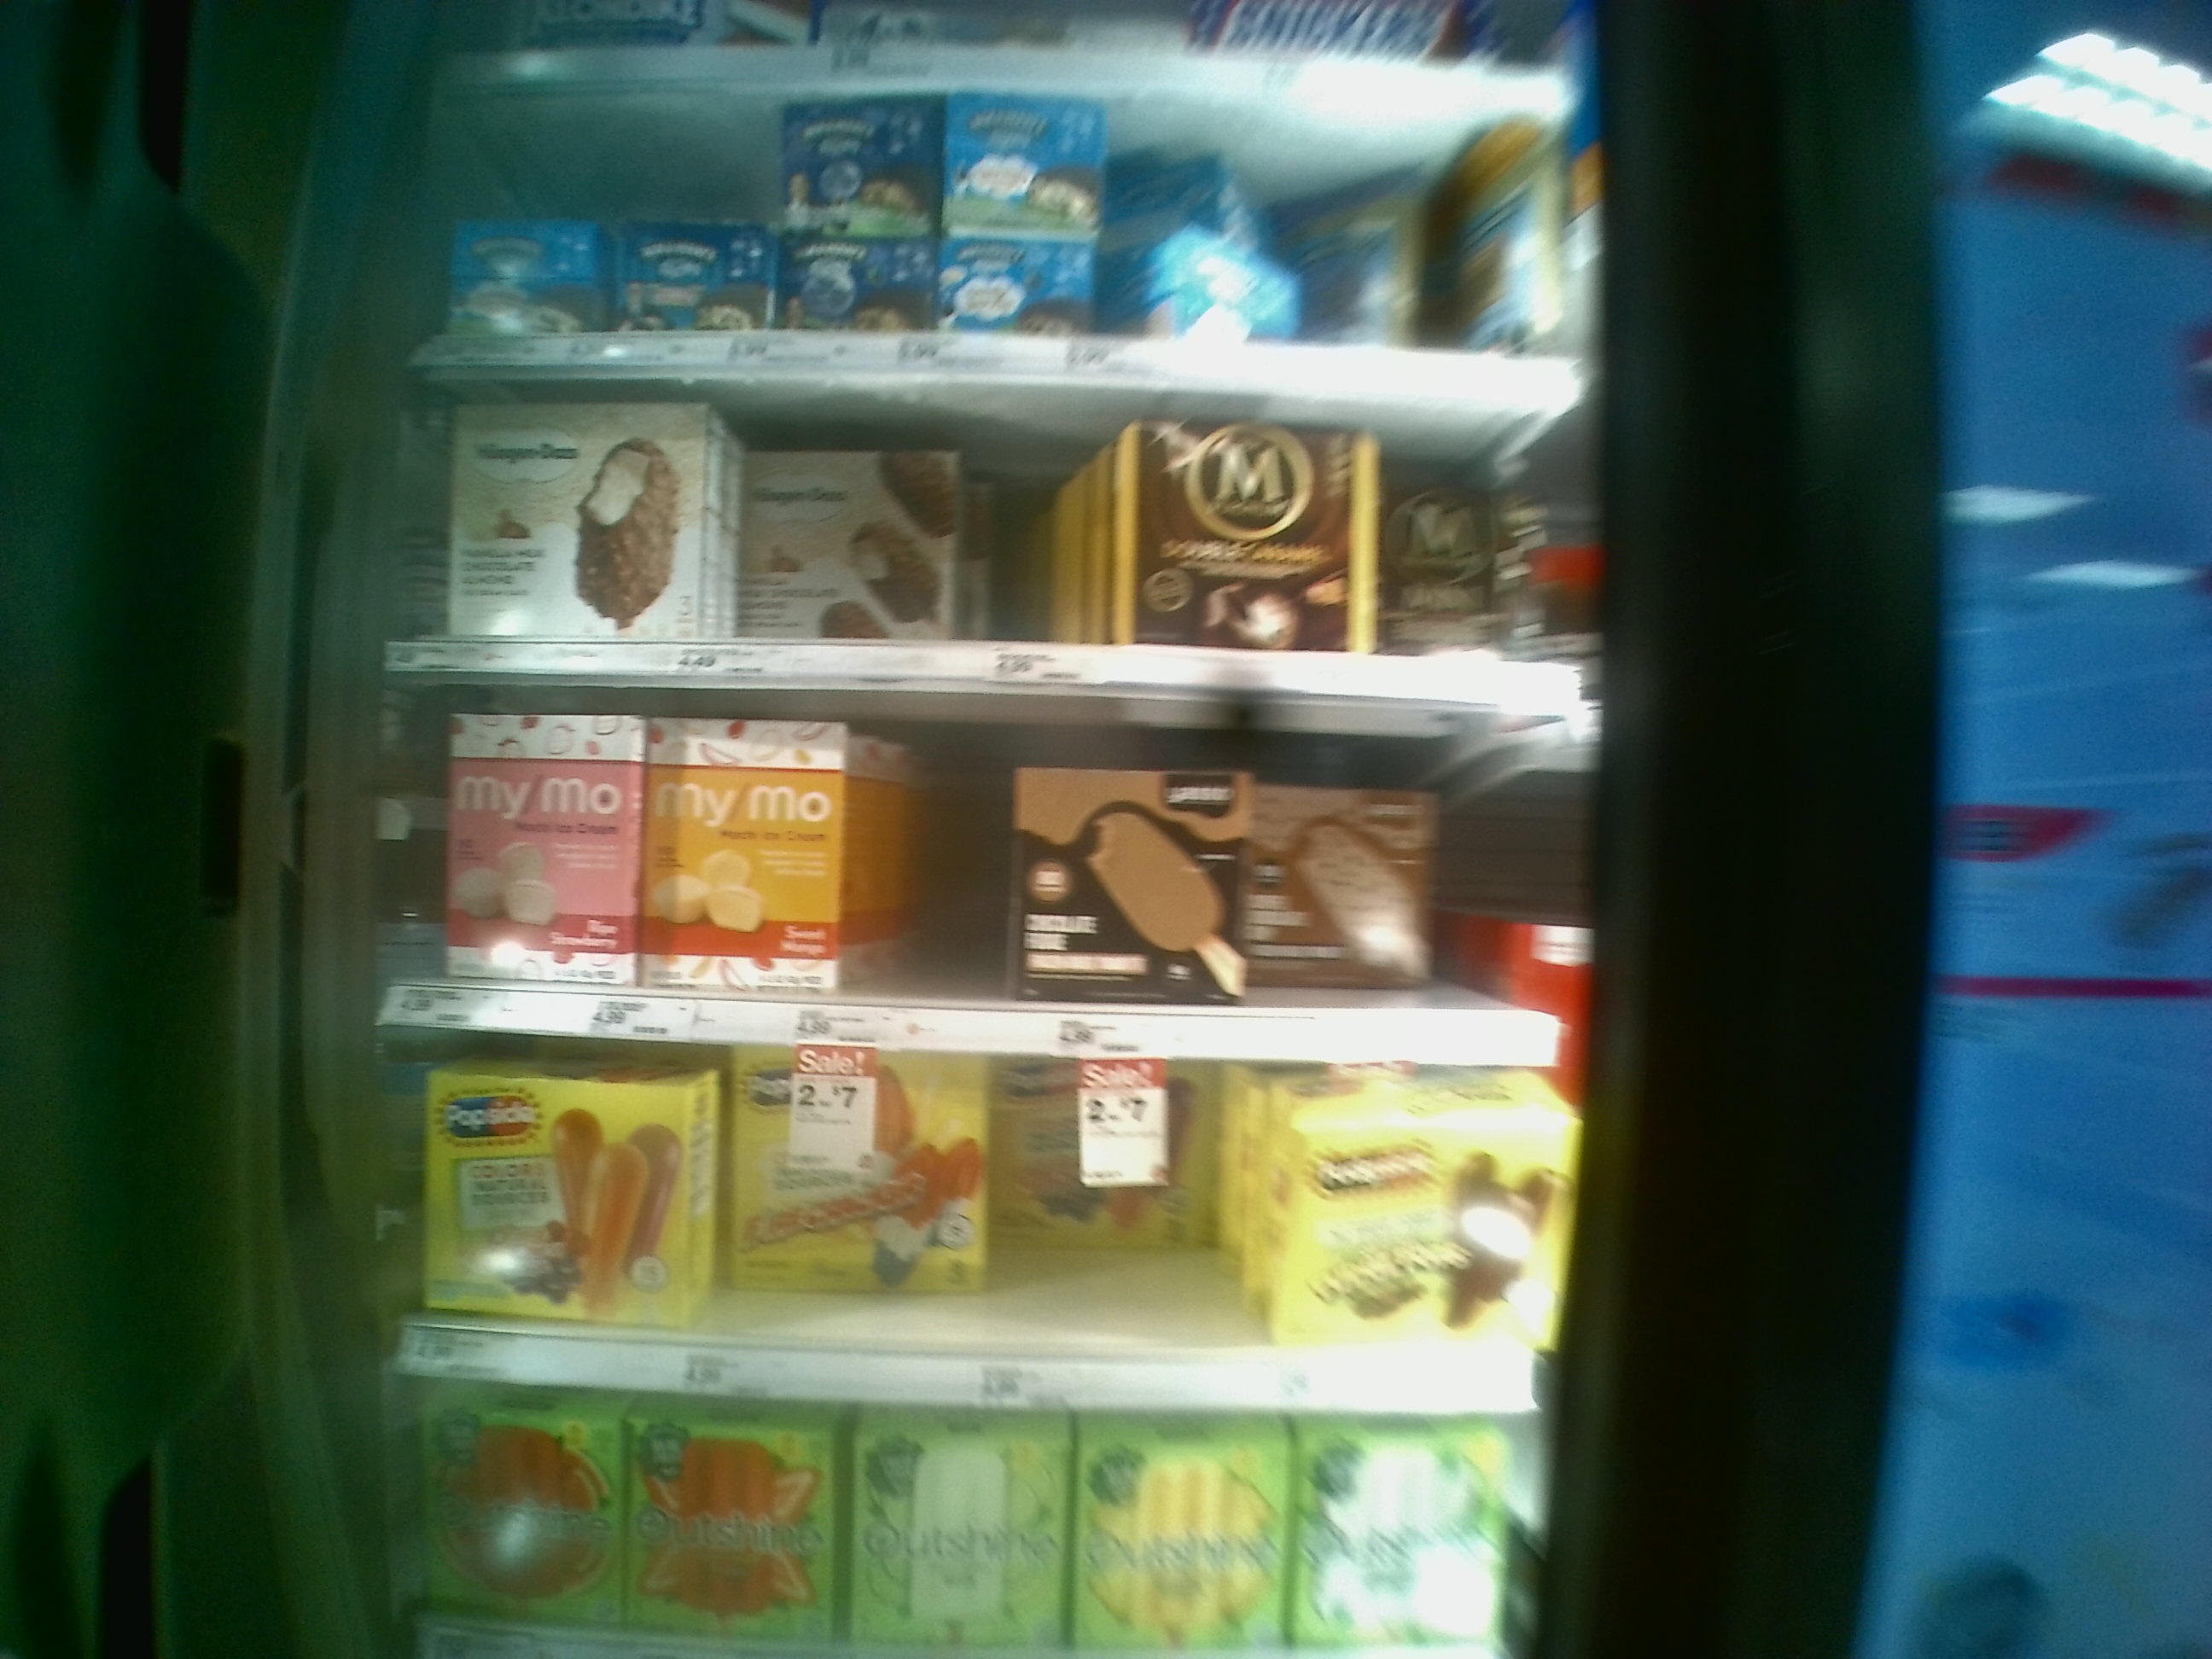shelf: (381, 1028, 1569, 1417), (394, 676, 1575, 1060), (388, 362, 1599, 711), (392, 61, 1611, 361)
